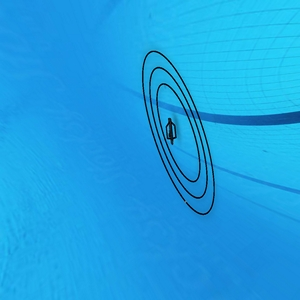submarine: (165, 118, 178, 148)
